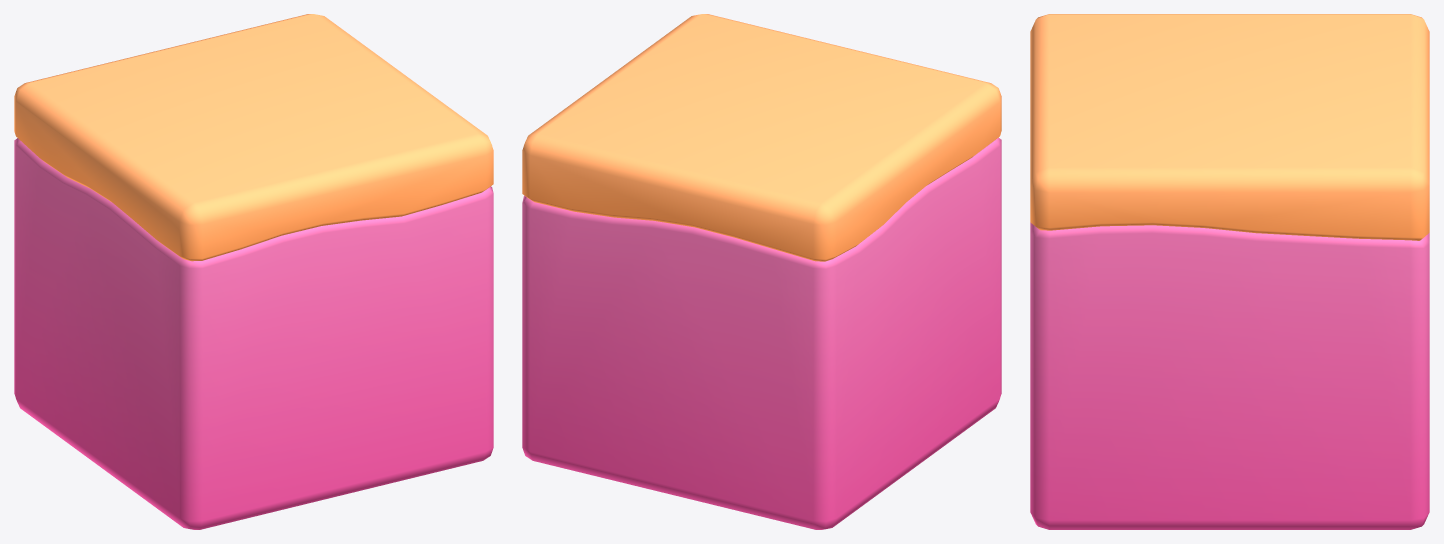
File: Platform_01.glb
3 renders of one model, left to right at view 1: azimuth 30°, elevation 25°; view 2: azimuth 150°, elevation 25°; view 3: azimuth 270°, elevation 25°, orthographic. The views are drawn at different scales.
Visible parts, largest first — view 1: Platform_01; view 2: Platform_01; view 3: Platform_01.
Part boxes in pixels (x1,y1,x2,y2): Platform_01: (14,14,493,529); Platform_01: (522,14,1001,529); Platform_01: (1030,14,1429,529).
Bounding box in the file's own units: 6 × 6 × 6.
Materials: 1 (1 with a texture image).
